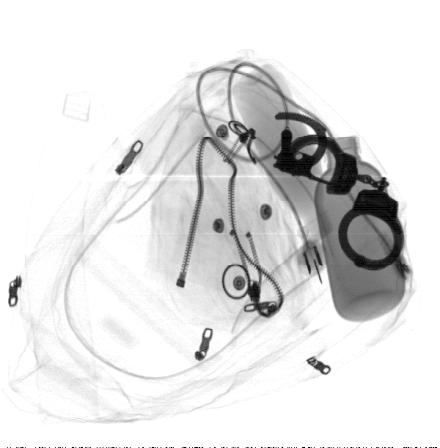Gun: (270, 128, 349, 197)
HandCuffs: (273, 111, 403, 272)
